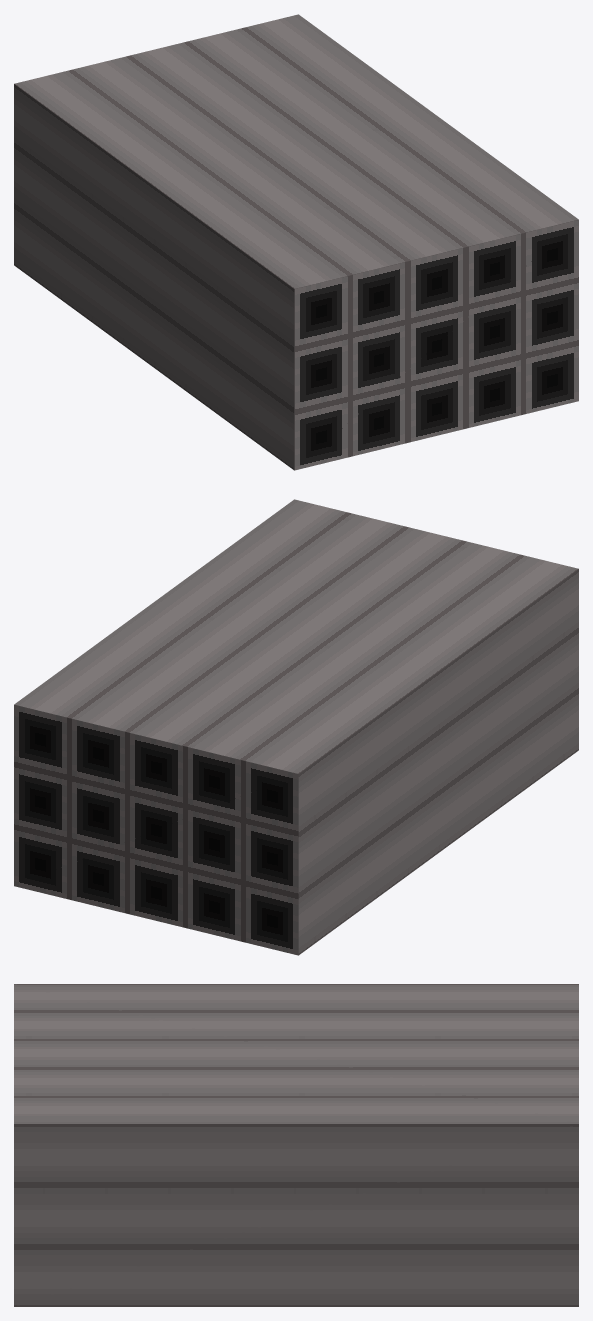
Rendered from BLOCKYGON_LARGE PIPE(BIG).fbx.
3 renders of one model, top to bottom at view 1: azimuth 30°, elevation 25°; view 2: azimuth 150°, elevation 25°; view 3: azimuth 270°, elevation 25°, orthographic.
Parts seen in each view (by area): view 1: BLOCKYGON_LARGE_PIPE_BIG_; view 2: BLOCKYGON_LARGE_PIPE_BIG_; view 3: BLOCKYGON_LARGE_PIPE_BIG_.
Boxes of the visible parts, x1,y1,x2,y2 form: BLOCKYGON_LARGE_PIPE_BIG_: [14, 14, 578, 470]; BLOCKYGON_LARGE_PIPE_BIG_: [14, 499, 578, 955]; BLOCKYGON_LARGE_PIPE_BIG_: [14, 984, 578, 1306].
Bounding box in the file's own units: 527 × 321 × 900.
